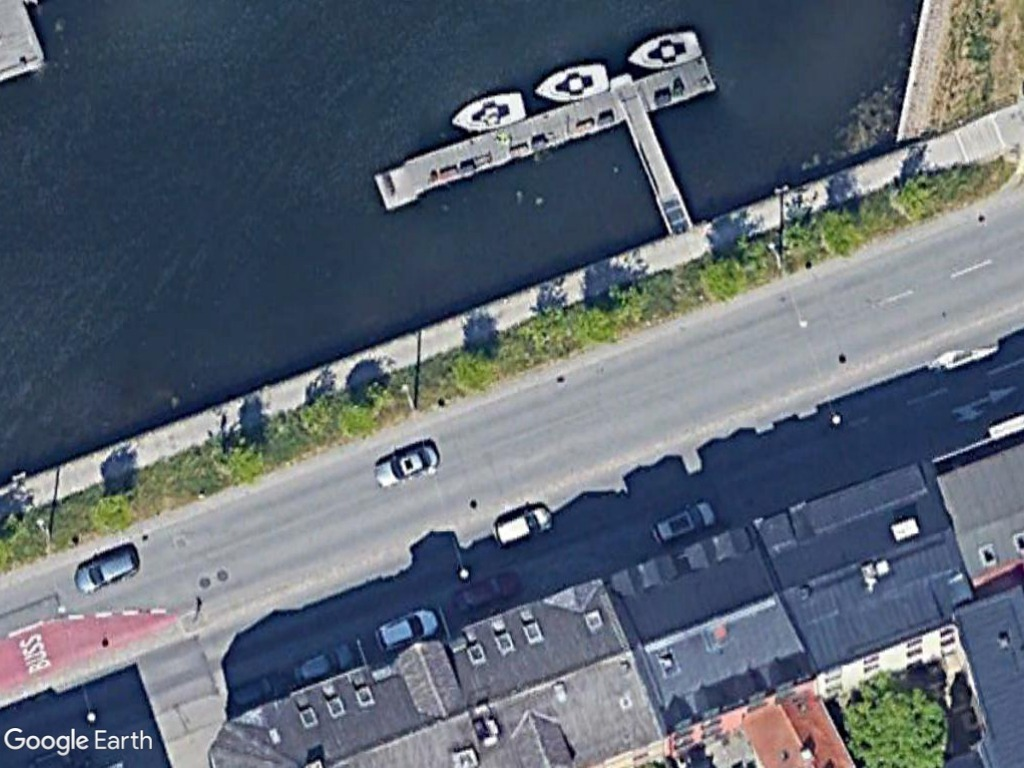boat: (622, 20, 707, 74), (530, 53, 612, 108), (447, 85, 530, 138)
car: (68, 541, 147, 598), (646, 491, 718, 551), (368, 438, 444, 492), (487, 495, 559, 551), (371, 600, 443, 653)
